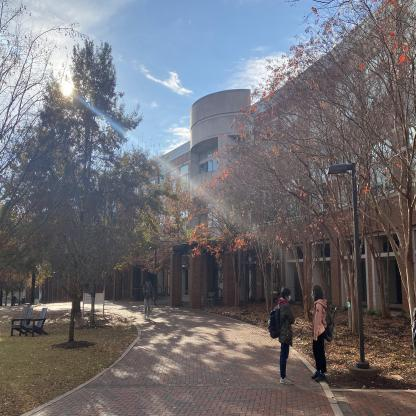EB-1: (40, 85, 411, 304)
